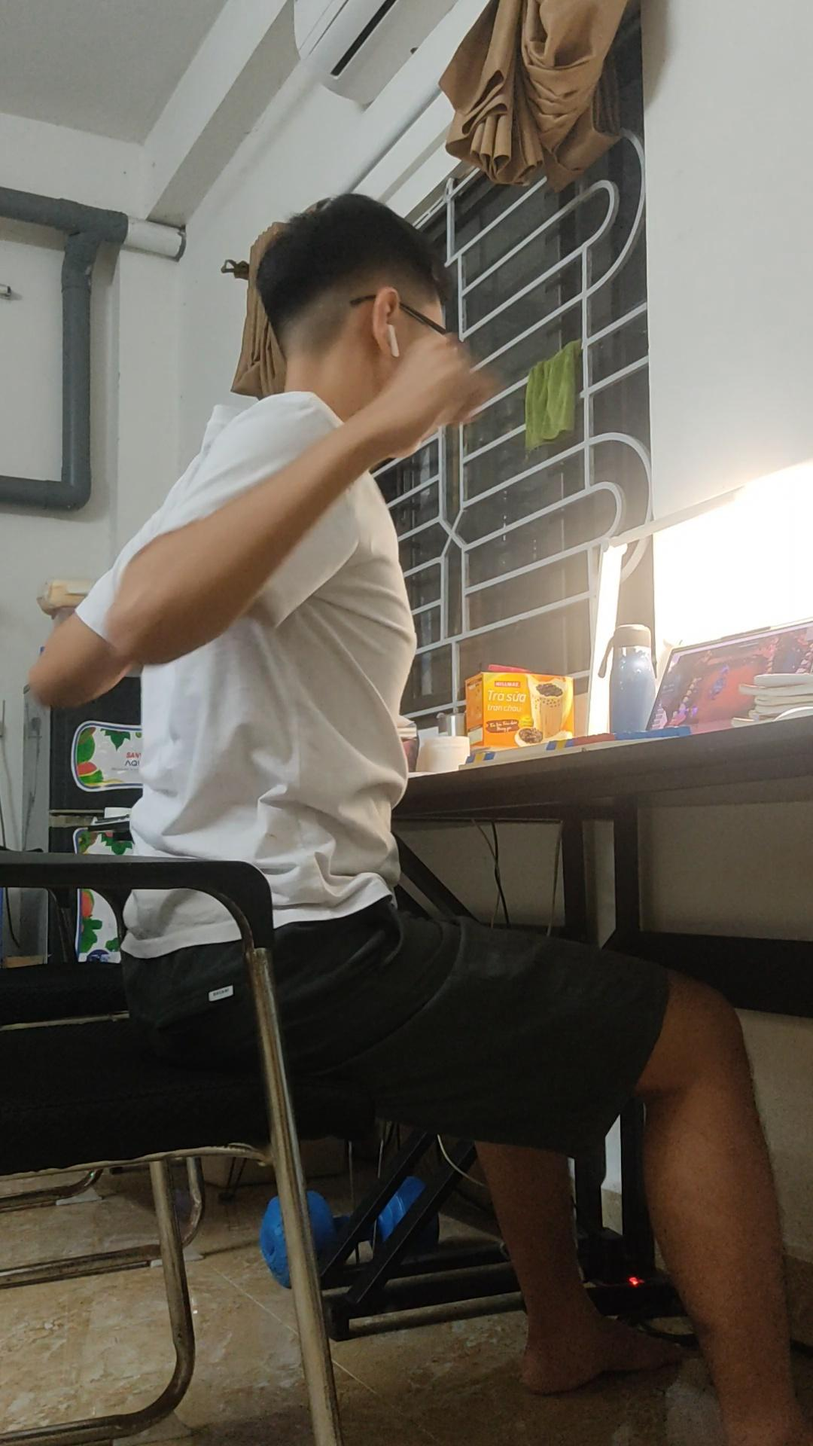GoodPosture: (31, 194, 812, 1445)
